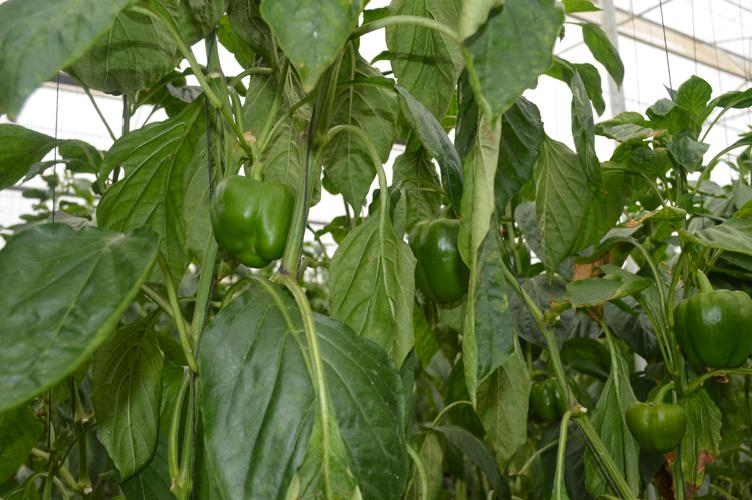BellPepper: (205, 169, 307, 275), (671, 272, 752, 374), (396, 210, 472, 310), (623, 389, 696, 462), (522, 368, 593, 422)
